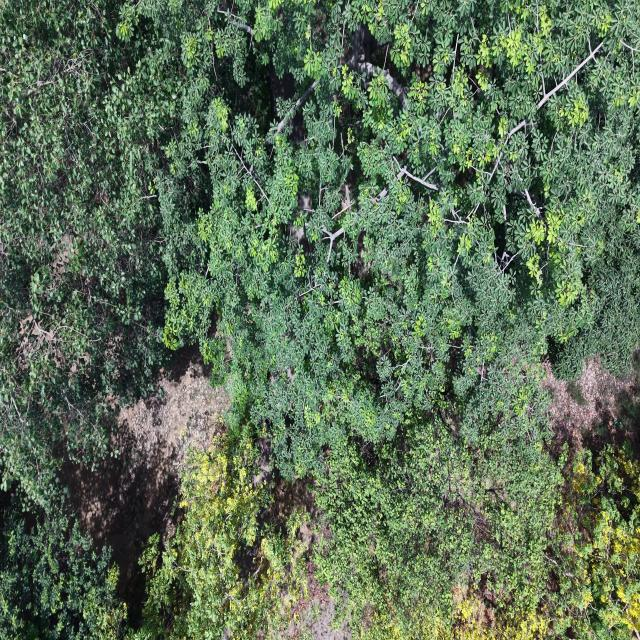DRY_AREA: (62, 351, 230, 625), (63, 352, 229, 624), (63, 353, 229, 621), (543, 357, 639, 450), (285, 561, 351, 639), (287, 563, 351, 639)
VEGETATION_TREE: (0, 0, 639, 638), (136, 3, 639, 636), (0, 0, 199, 505), (141, 434, 305, 639), (0, 488, 126, 639)
